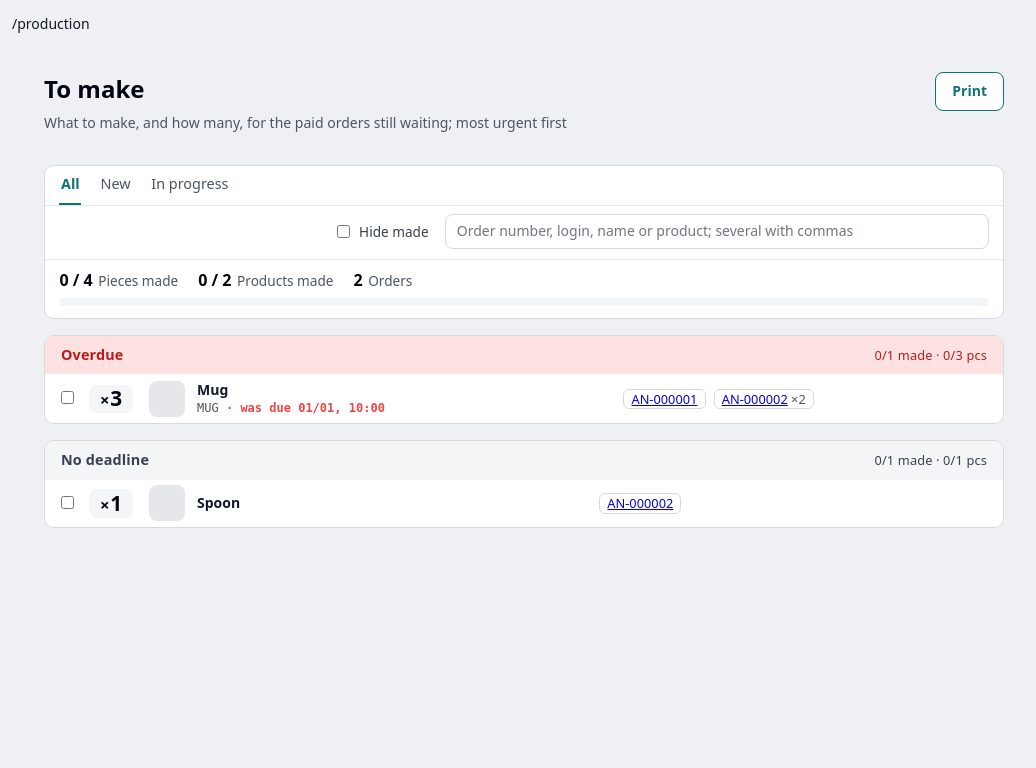
Test: narrowing the to-make list › searches for the orders typed, several with commas, after a pause in typing
Type " AN-000001, AN-000002 " into the search field at point(717, 231), box [445, 214, 989, 249]
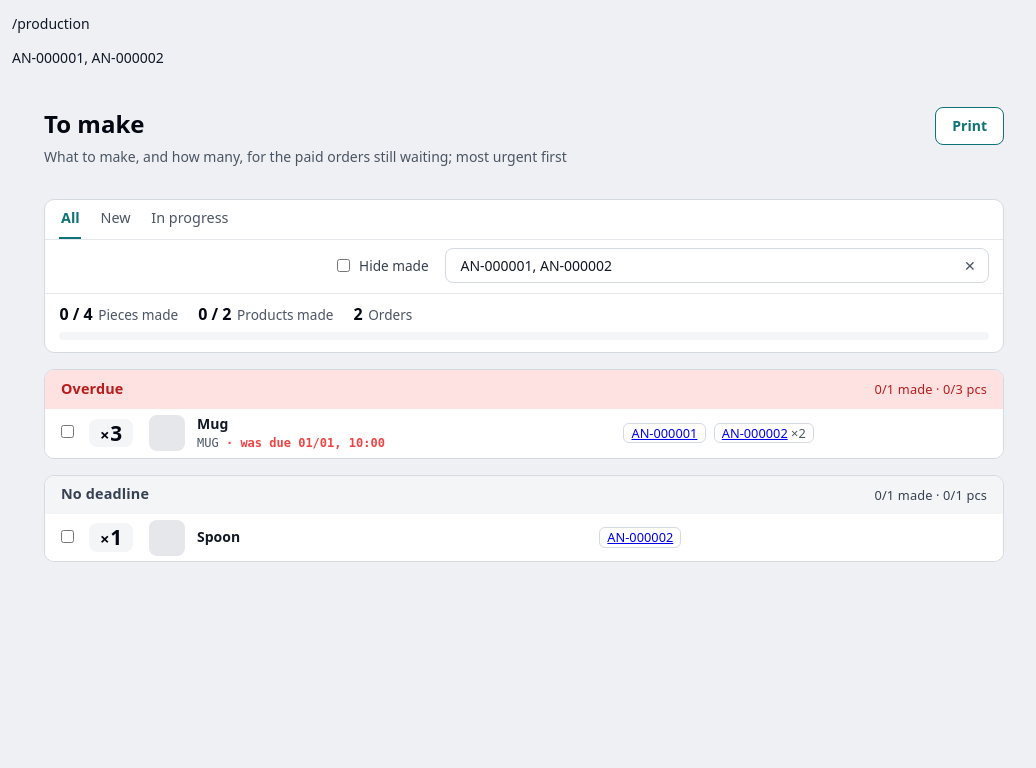
Expected: the text with test id "where" does not show "search=", [12, 14, 90, 33]
Result: the text with test id "where-search" reads "AN-000001, AN-000002" at [12, 48, 164, 67]
